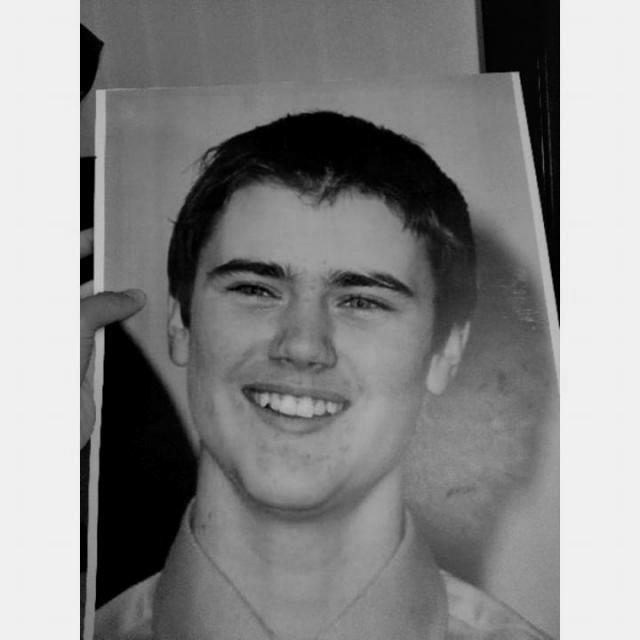fake: (90, 67, 560, 640)
